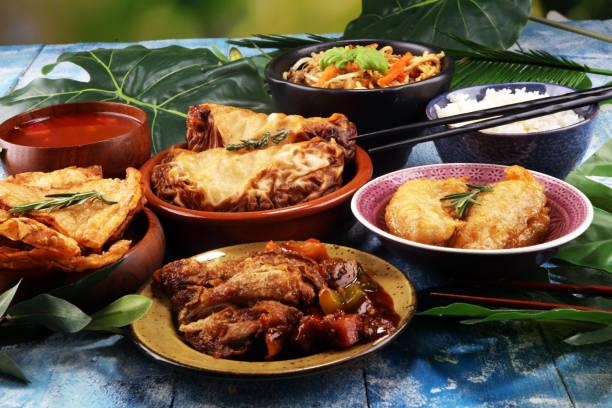Braised Crucian Carp: (127, 240, 416, 378), (351, 161, 592, 279), (137, 135, 371, 254), (0, 161, 154, 304), (264, 38, 452, 127)
